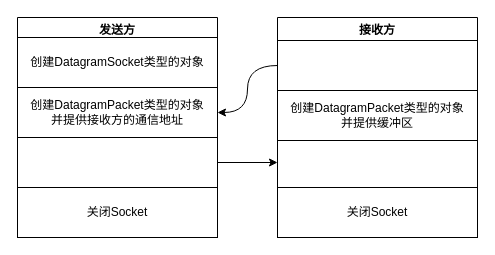
Image size: 495x255. Some labels were removed from this diagram. The centre of each missing label's shape, as x and y in pixels:
"创建DatagramSocket类型的对象 并提供端口号" goes at point (377, 65).
"通过Socket发送Packet中的数据内容 调用send方法" goes at point (117, 162).
"通过Socket接收数据存放到Packet中 调用receive方法" goes at point (377, 162).
